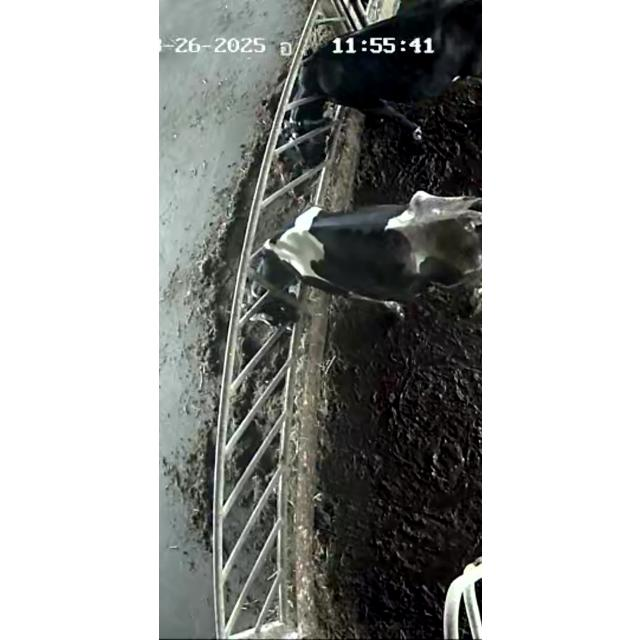eat: (212, 188, 380, 328), (230, 39, 390, 135)
